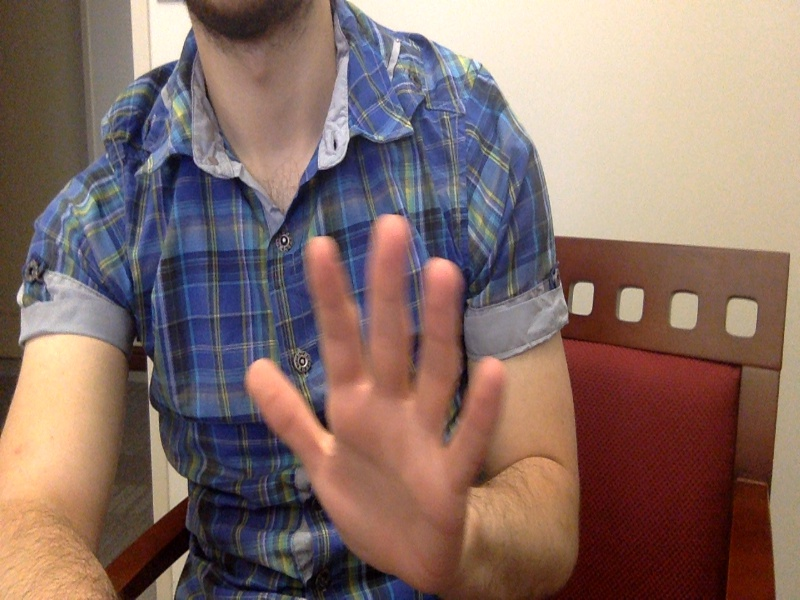5-hand: (245, 215, 508, 581)
